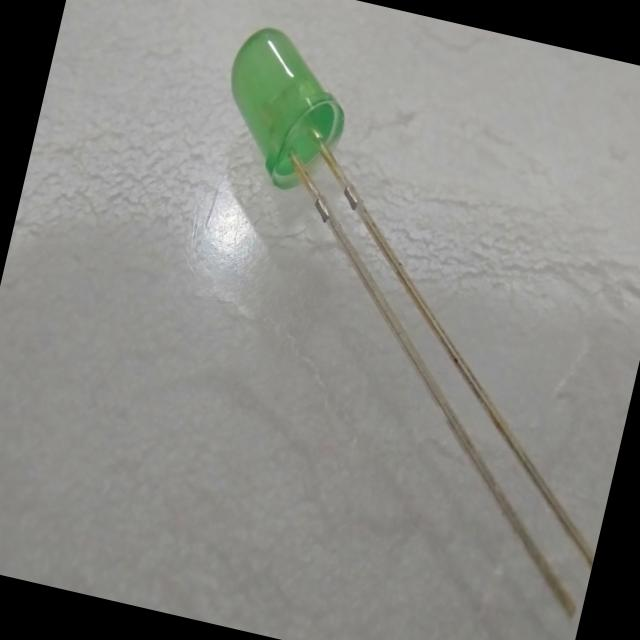green_led: (202, 13, 366, 203)
